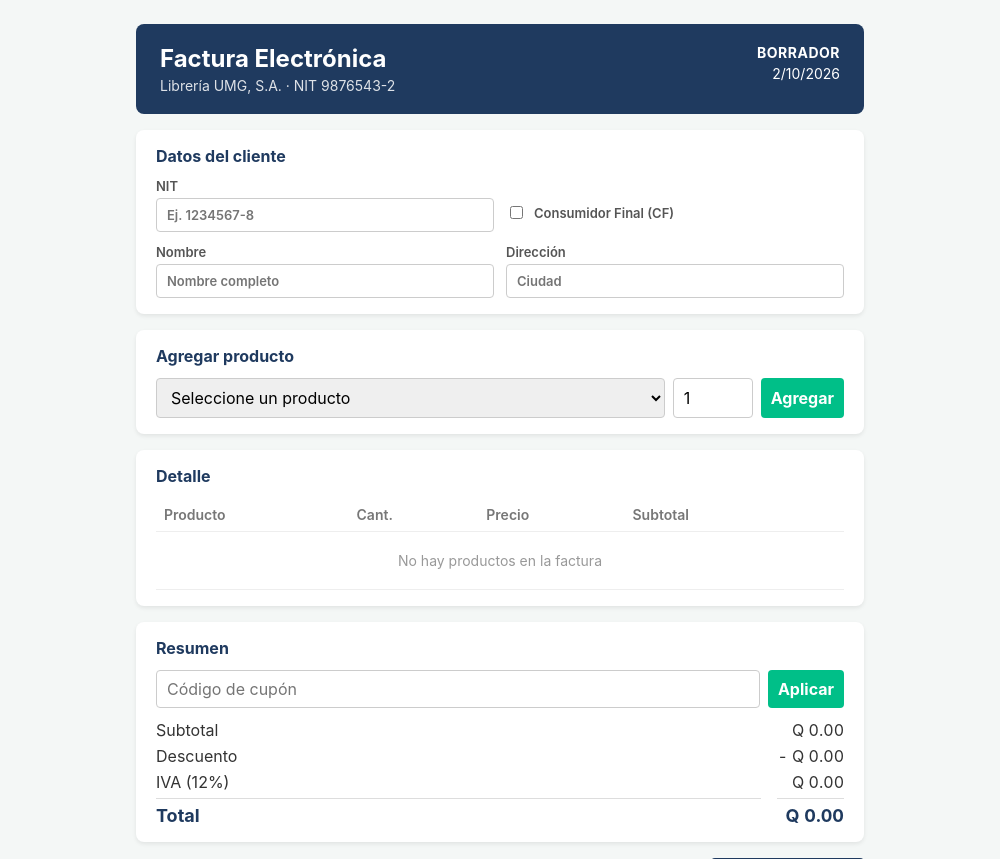
Test: Factura Electrónica - Pruebas E2E › Ejercicio 3: Consumidor Final › al marcar CF el NIT se llena con "CF" y se deshabilita
Check the checkbox with test id "cliente-cf". click: (517, 213)
box: [510,206,523,219]
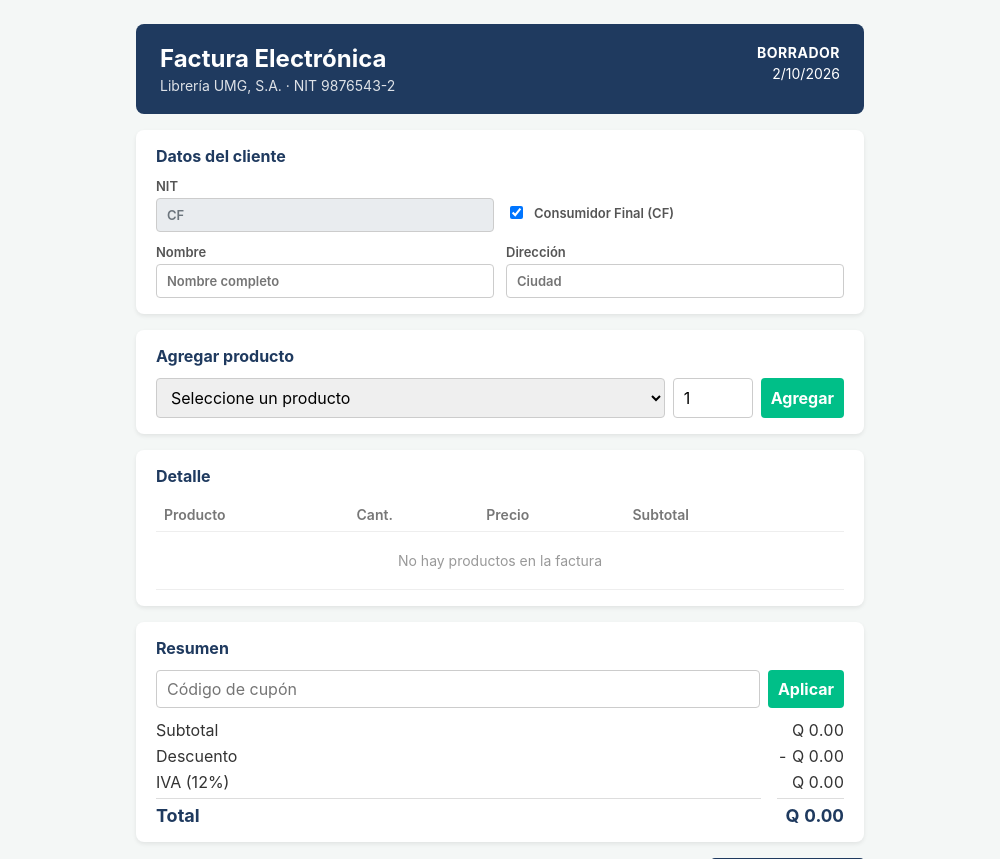
Expected: the field with test id "cliente-nit" holds "CF", [156,198,494,232]
Expected: the field with test id "cliente-nit" is disabled, [156,198,494,232]
Uncheck the checkbox with test id "cliente-cf". click: (517, 213)
box: [510,206,523,219]
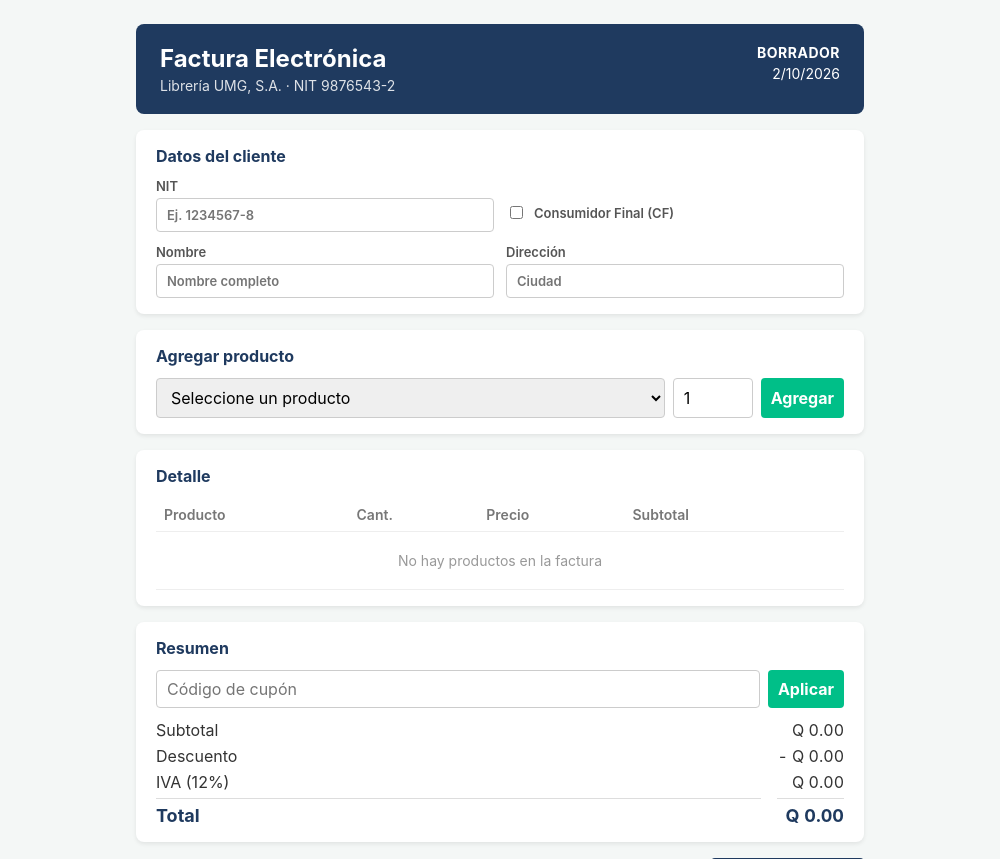
Expected: the field with test id "cliente-nit" is enabled, [156,198,494,232]
